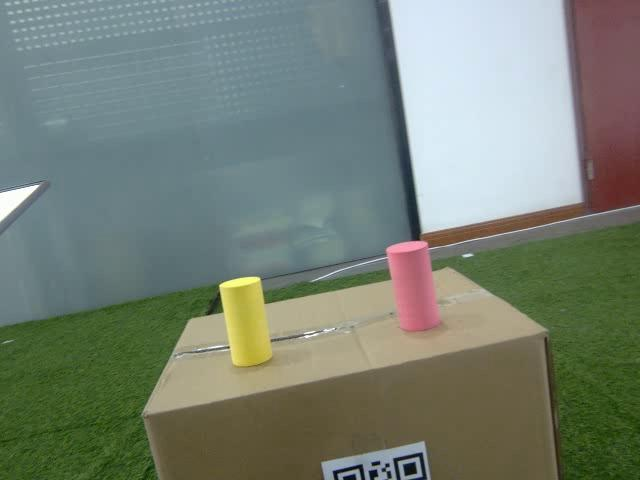red_cylinder: (386, 240, 445, 332)
yellow_cylinder: (220, 274, 275, 369)
